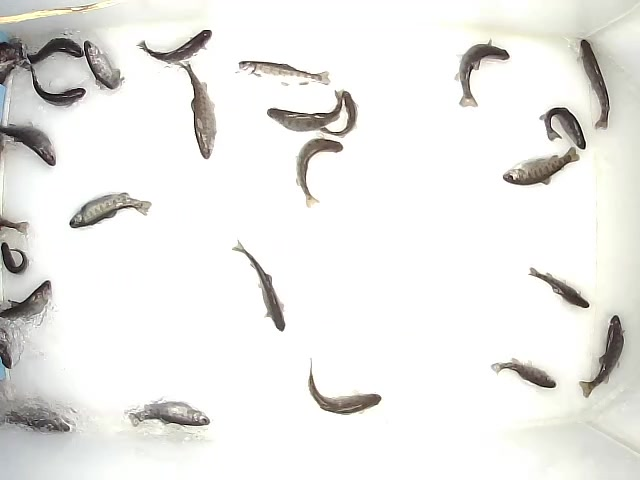fish: (230, 238, 288, 332), (576, 313, 626, 399), (454, 38, 511, 109), (178, 64, 218, 161), (266, 88, 345, 133), (295, 138, 345, 208), (502, 144, 582, 186), (576, 37, 611, 132), (68, 191, 153, 229), (135, 28, 213, 65), (528, 265, 592, 310), (237, 59, 333, 88), (1, 278, 54, 330), (128, 398, 211, 430), (1, 120, 57, 167), (29, 65, 87, 110), (2, 403, 78, 436), (489, 356, 558, 391), (539, 105, 588, 152), (84, 40, 123, 92), (318, 90, 359, 137), (25, 37, 84, 64), (333, 390, 382, 417), (1, 241, 30, 275)
